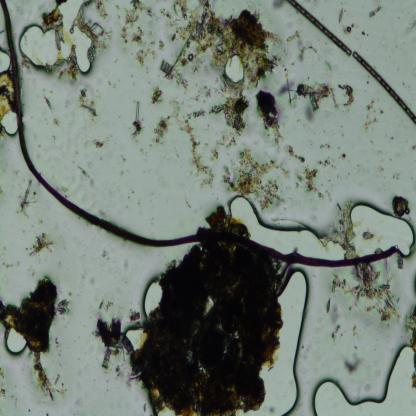Air bubble: (228, 194, 345, 260), (312, 343, 416, 416), (269, 267, 315, 415), (18, 0, 92, 75), (348, 201, 416, 267), (142, 276, 162, 319), (4, 326, 28, 356), (224, 55, 246, 84), (124, 323, 148, 349), (1, 107, 18, 137), (0, 45, 12, 77)
Background material: (128, 239, 284, 416), (177, 0, 282, 91), (0, 275, 69, 352), (330, 263, 402, 325), (226, 147, 292, 209), (182, 120, 215, 190), (69, 13, 112, 64), (208, 83, 250, 134), (325, 201, 360, 259), (29, 352, 65, 400), (206, 203, 248, 241), (258, 90, 284, 147), (162, 46, 198, 87), (90, 312, 126, 352), (159, 0, 193, 41), (292, 165, 328, 200), (209, 129, 240, 160), (54, 48, 81, 82), (0, 68, 17, 122), (26, 231, 55, 260), (123, 0, 155, 26), (151, 113, 173, 147), (76, 88, 98, 121), (16, 180, 35, 218), (316, 82, 341, 110), (278, 74, 298, 108), (40, 7, 67, 32), (400, 307, 416, 347), (328, 304, 343, 346), (364, 100, 384, 131), (342, 351, 366, 376), (390, 193, 412, 220), (166, 95, 183, 129), (131, 100, 144, 140), (83, 0, 109, 19), (191, 84, 212, 104), (296, 45, 318, 63), (134, 47, 156, 65), (337, 84, 354, 107), (286, 29, 304, 49), (285, 145, 306, 162), (360, 228, 385, 242), (314, 154, 336, 168), (297, 82, 316, 97), (130, 27, 145, 45), (149, 85, 163, 104), (184, 108, 206, 120), (76, 164, 91, 181), (0, 364, 7, 398), (1, 258, 20, 270), (120, 25, 128, 53), (304, 106, 317, 123), (147, 30, 157, 48), (405, 19, 416, 35), (368, 6, 384, 17), (98, 300, 113, 311), (184, 192, 192, 210), (115, 363, 124, 379), (92, 138, 104, 150), (271, 0, 285, 10), (351, 323, 359, 340), (44, 96, 52, 111), (52, 116, 62, 127), (100, 249, 110, 259), (342, 24, 352, 34), (320, 142, 331, 150), (324, 60, 332, 71), (392, 172, 402, 180), (158, 39, 164, 52), (169, 33, 177, 42), (339, 124, 344, 137), (268, 406, 276, 414), (378, 164, 384, 174), (339, 152, 346, 160), (0, 185, 5, 196), (2, 245, 8, 252), (311, 0, 318, 6), (411, 143, 416, 151), (142, 402, 146, 412), (360, 31, 366, 36), (116, 4, 120, 10), (118, 13, 121, 20), (350, 23, 354, 28), (390, 136, 394, 140), (366, 32, 369, 37), (366, 81, 369, 85)
Cotton: (0, 0, 398, 264)
Diatom: (308, 91, 320, 111), (160, 60, 174, 75), (122, 336, 133, 353), (102, 349, 112, 367), (54, 29, 61, 51), (233, 115, 242, 130), (397, 254, 404, 269), (338, 8, 344, 23), (326, 300, 330, 314)
Natural material: (352, 51, 416, 124), (288, 0, 352, 56)
